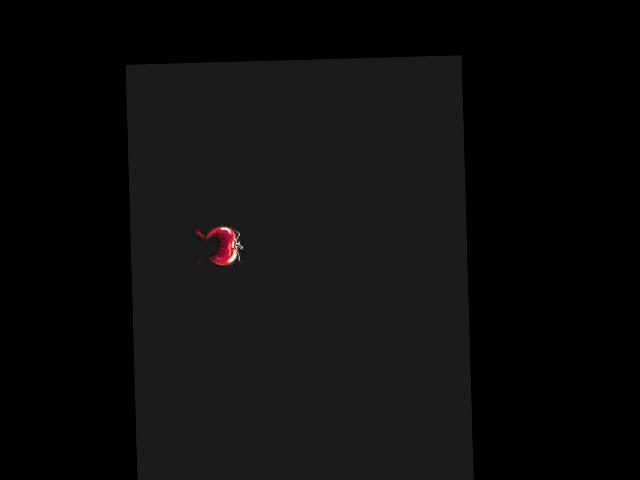tomato: (206, 226, 238, 265)
